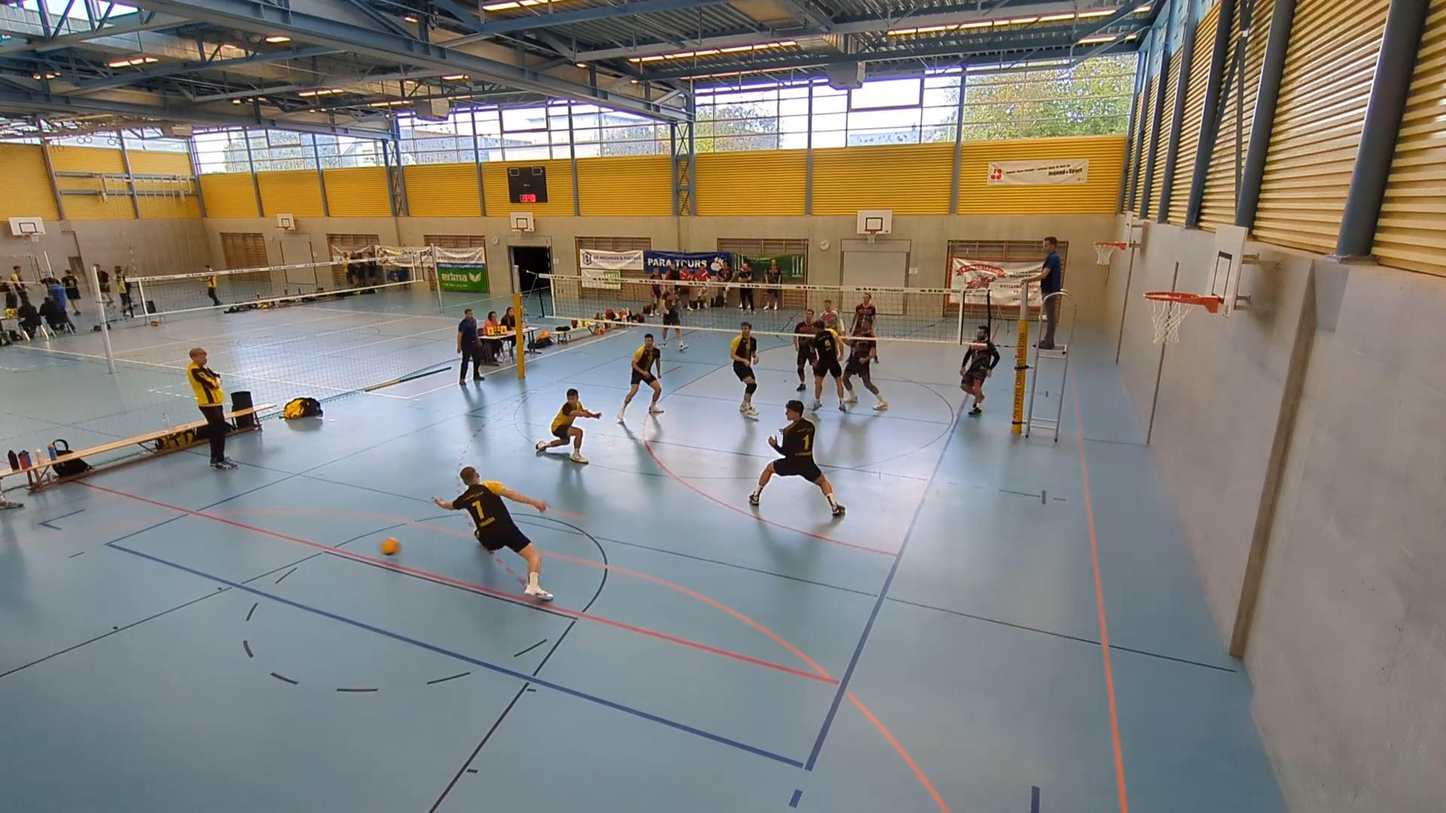Dig: (429, 466, 567, 604)
Player: (434, 467, 552, 601), (749, 400, 844, 516), (535, 388, 601, 463), (842, 316, 888, 410), (618, 333, 664, 422), (960, 325, 999, 416), (811, 320, 846, 410), (730, 323, 758, 419), (793, 309, 815, 391), (662, 286, 687, 350)
ball: (379, 535, 399, 559)
